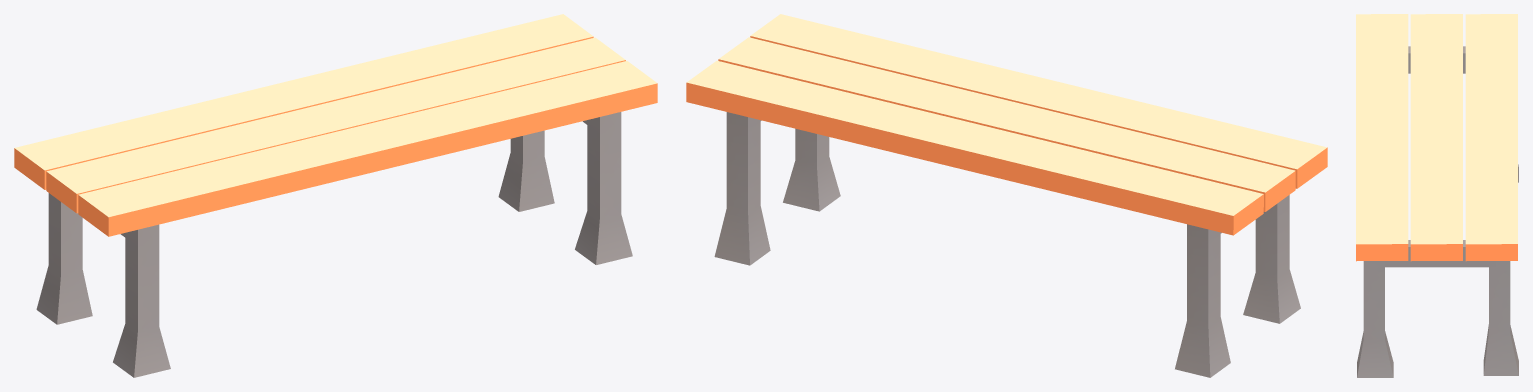
Rendered from city2-bench-02.glb.
The picture shows the model from 3 angles, left to right: view 1: azimuth 30°, elevation 25°; view 2: azimuth 150°, elevation 25°; view 3: azimuth 270°, elevation 25°; orthographic projection. The views are drawn at different scales.
Visible parts, largest first — view 1: Bench_02; view 2: Bench_02; view 3: Bench_02.
Part boxes in pixels (left/top/right/bottom): Bench_02: left=14, top=14, right=657, bottom=377; Bench_02: left=686, top=14, right=1327, bottom=377; Bench_02: left=1356, top=14, right=1518, bottom=377.
Size of the model in its own units: 1.7 by 0.4962 by 0.5088.
1 material, 1 textured.
